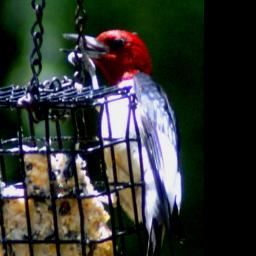Woodpecker: (56, 26, 186, 256)
